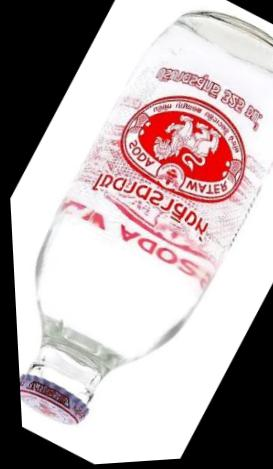glass: (11, 0, 272, 468)
metal: (11, 0, 272, 468)
